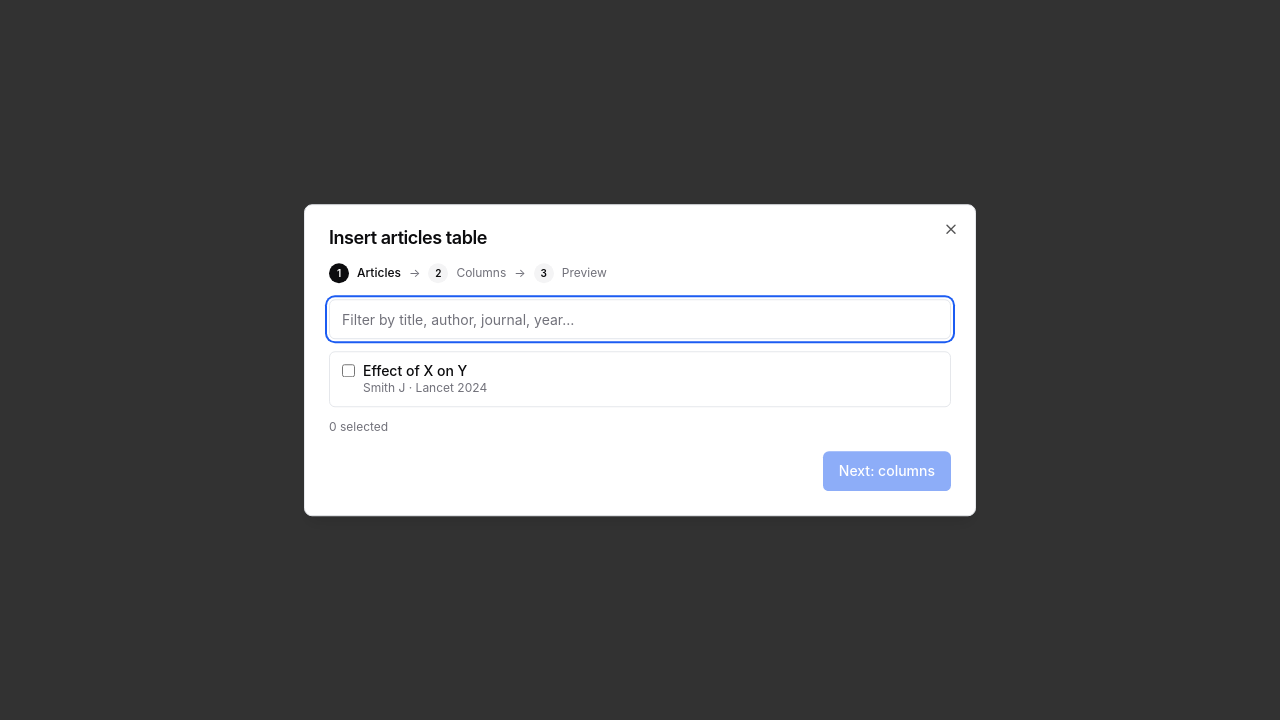
Test: InsertArticlesTableDialog › renders the backend-returned HTML in the preview step
expect the text "Effect of X on Y" is shown: met, box [363, 362, 467, 379]
Step 1. Click the checkbox named "Select Effect of X on Y" → (348, 371), box [342, 364, 355, 377]
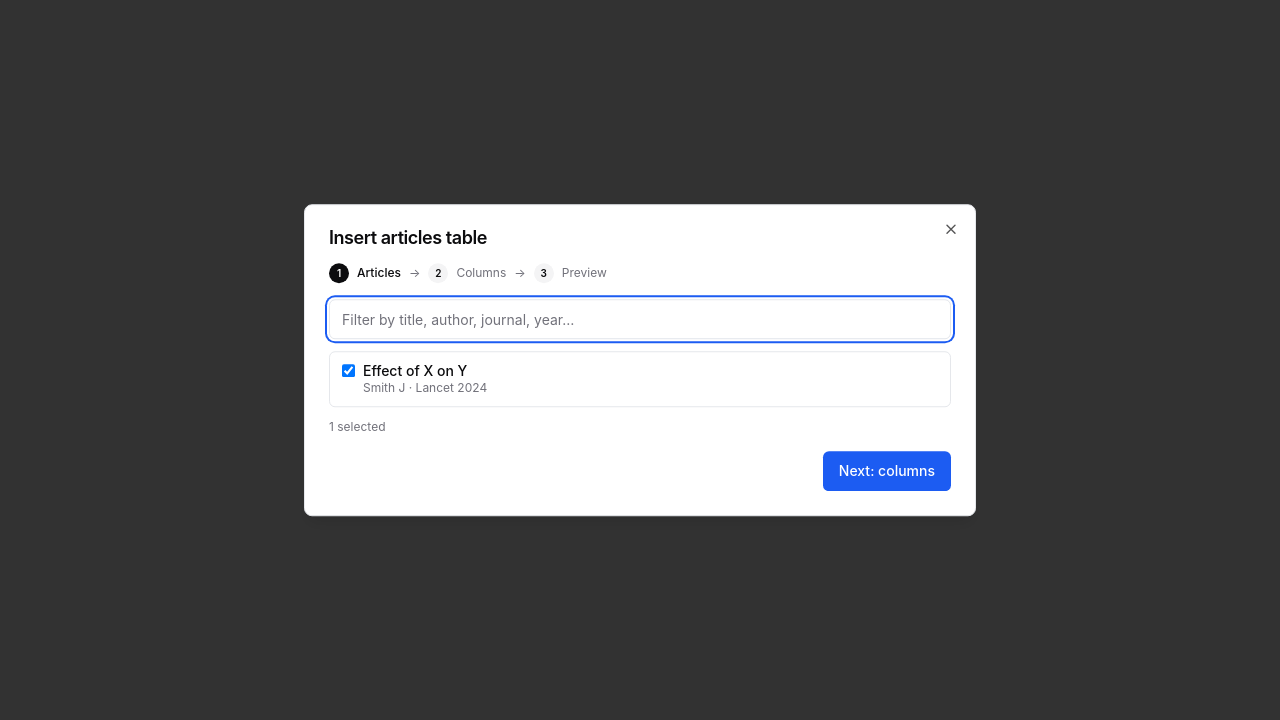
Step 2. Click the button "Next: columns" → (887, 471), box [823, 451, 951, 491]
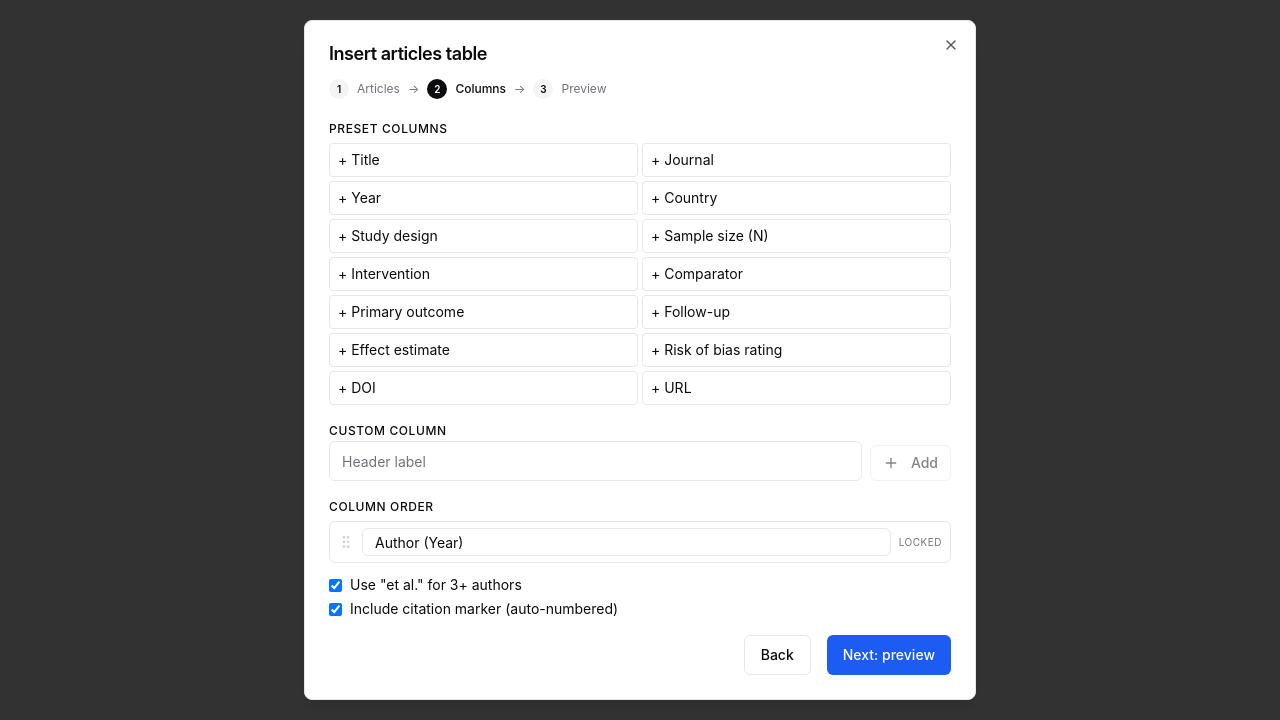
Step 3. Click the button "Next: preview" → (889, 655), box [827, 635, 951, 675]
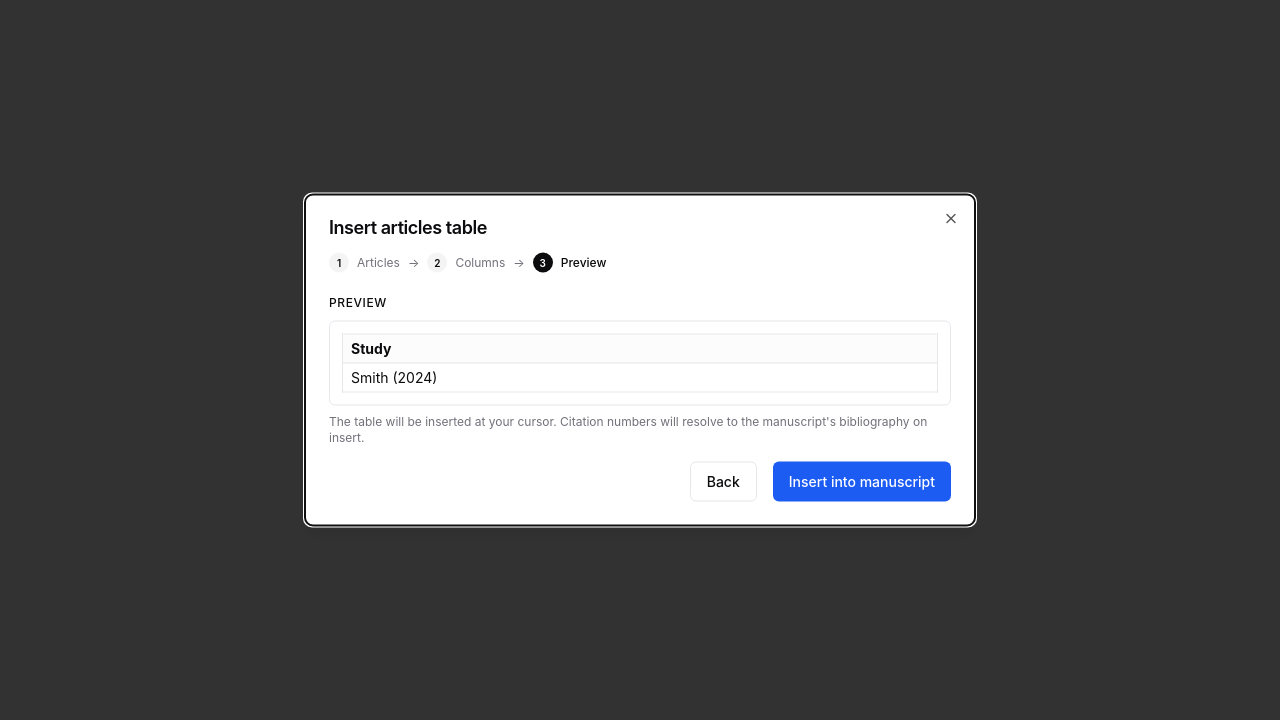
expect the table is shown: met, box [342, 334, 938, 392]
expect the element with test id "articles-table-preview" shows "Smith (2024)": met, box [351, 368, 437, 386]
